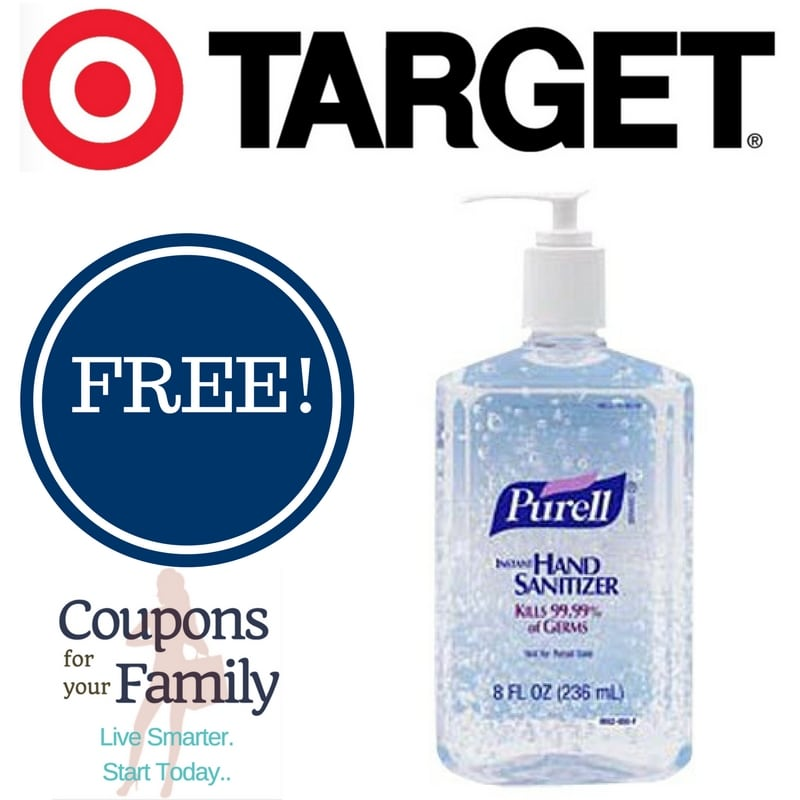Sanitizer: (417, 180, 722, 794)
